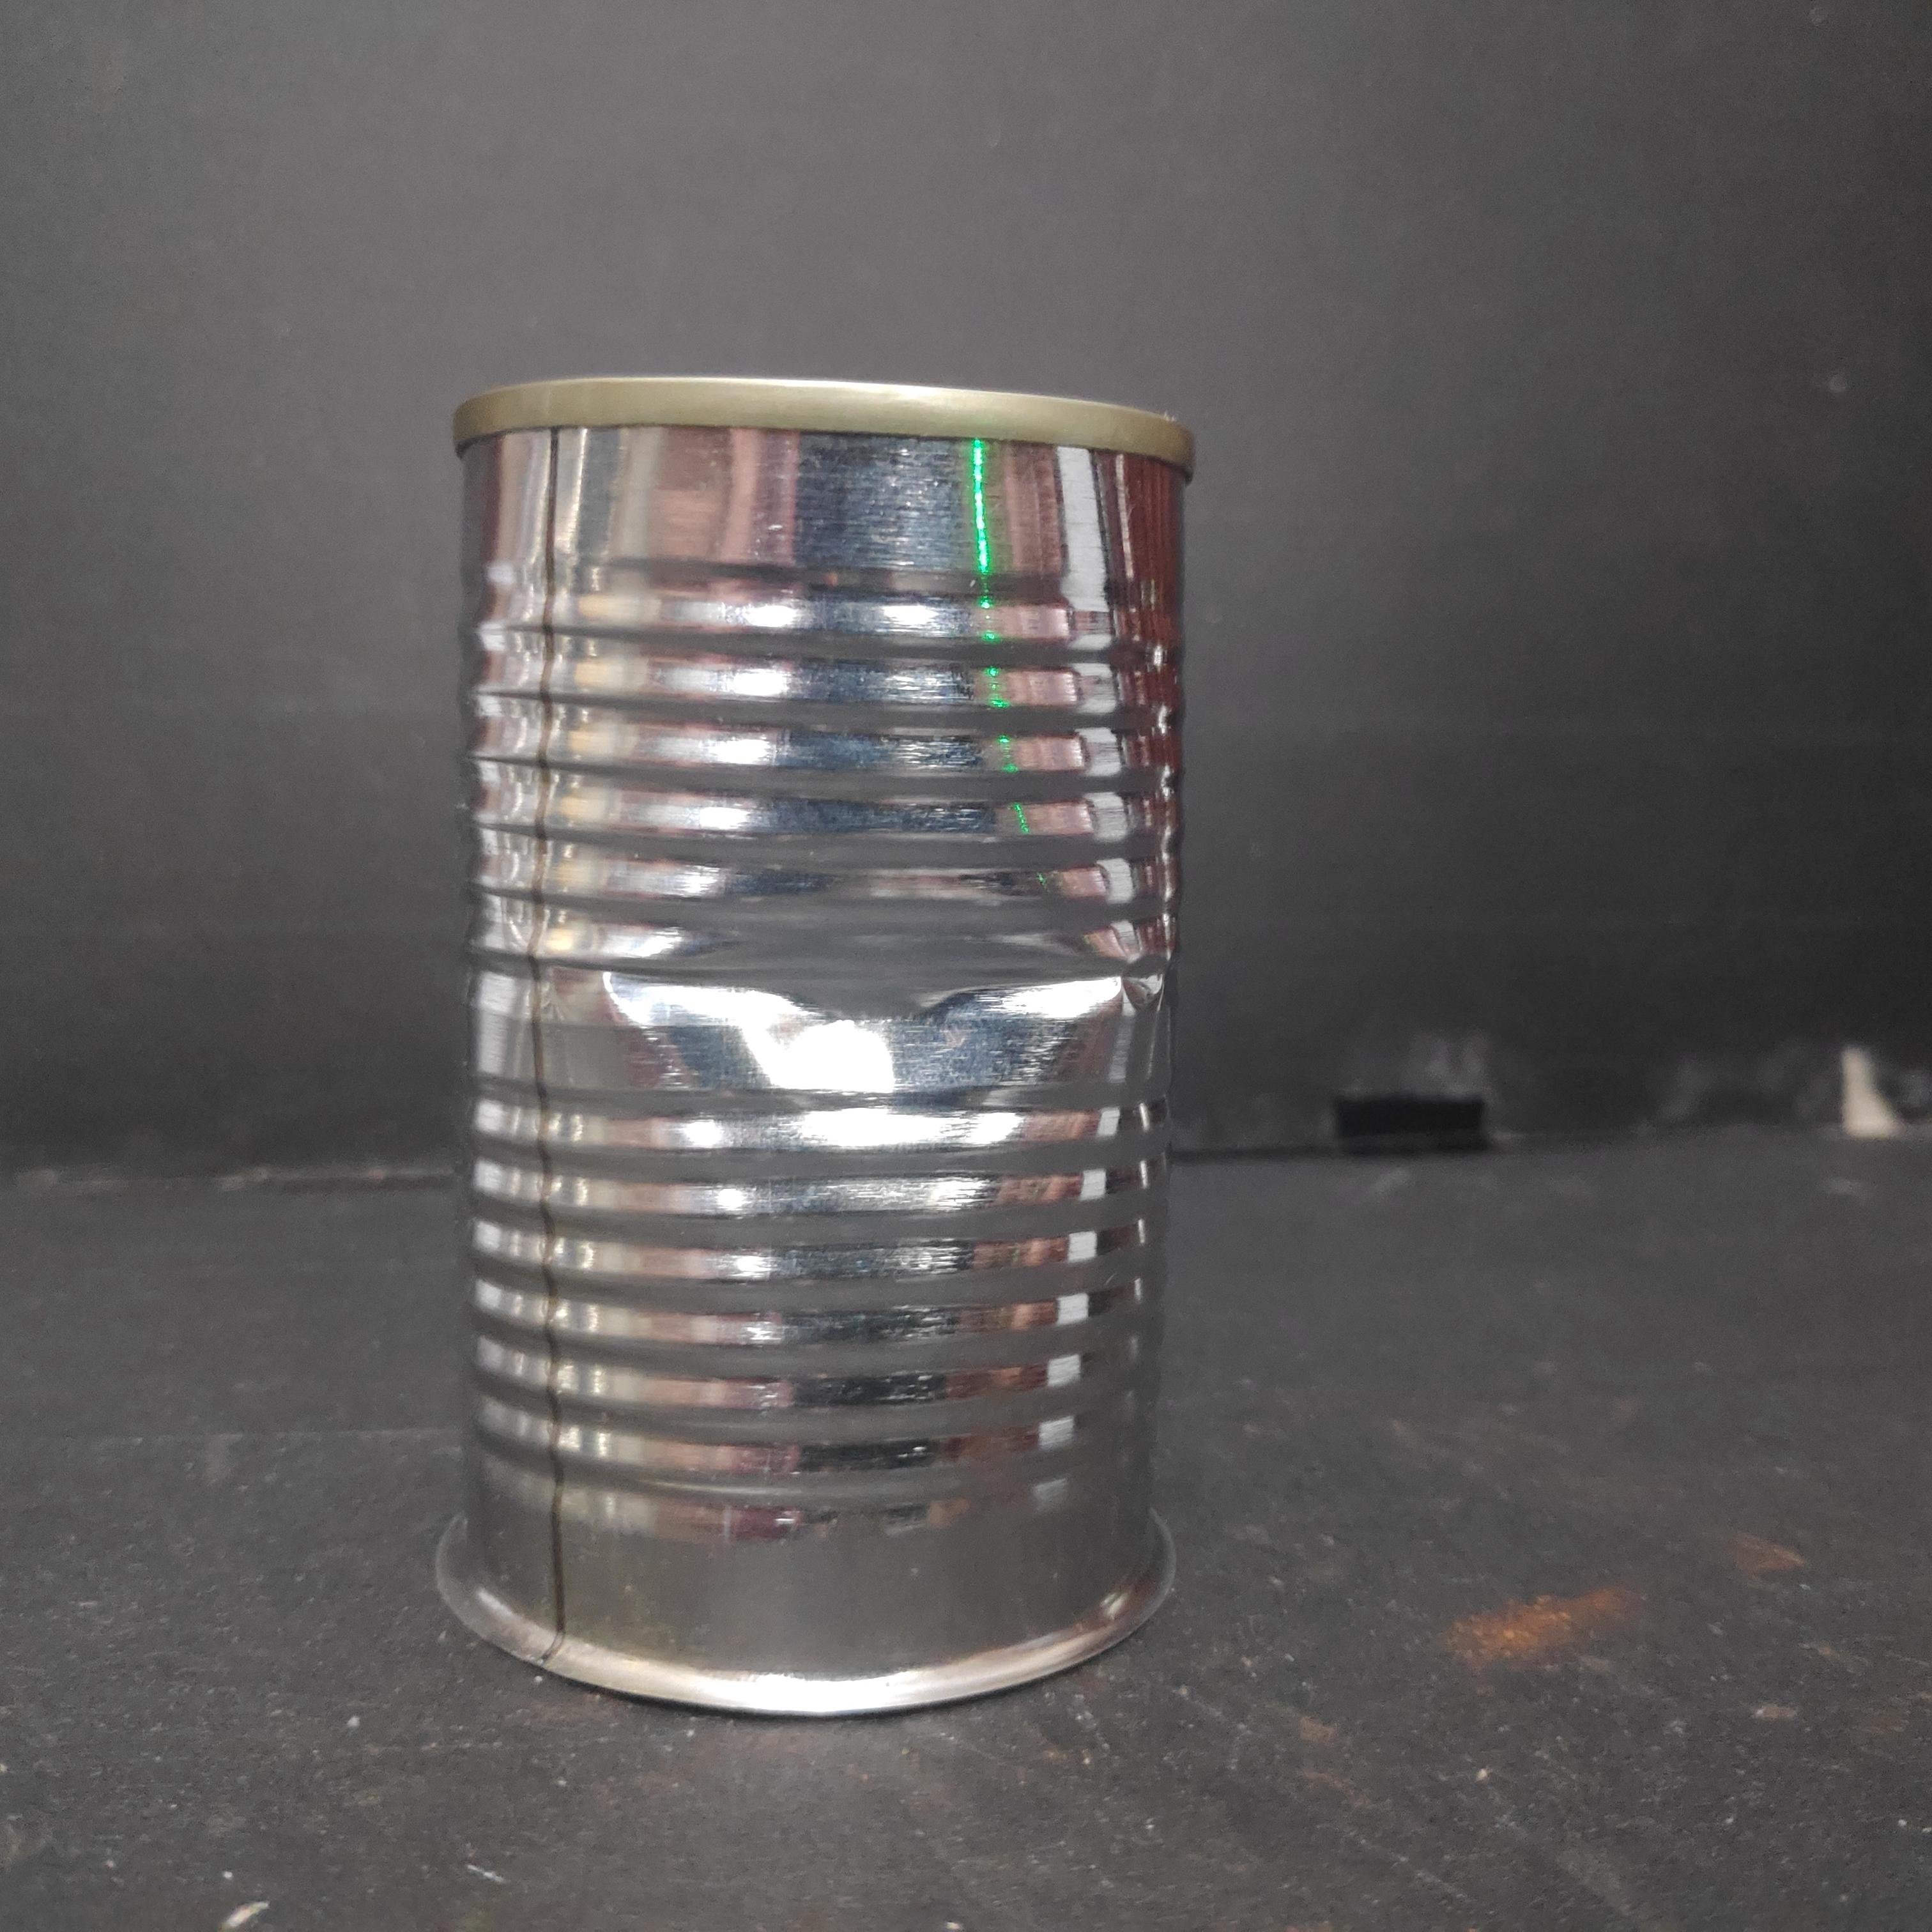Minor Defect: (439, 361, 1205, 1732)
